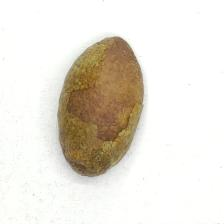NG: (52, 105, 138, 177), (62, 36, 112, 105)
